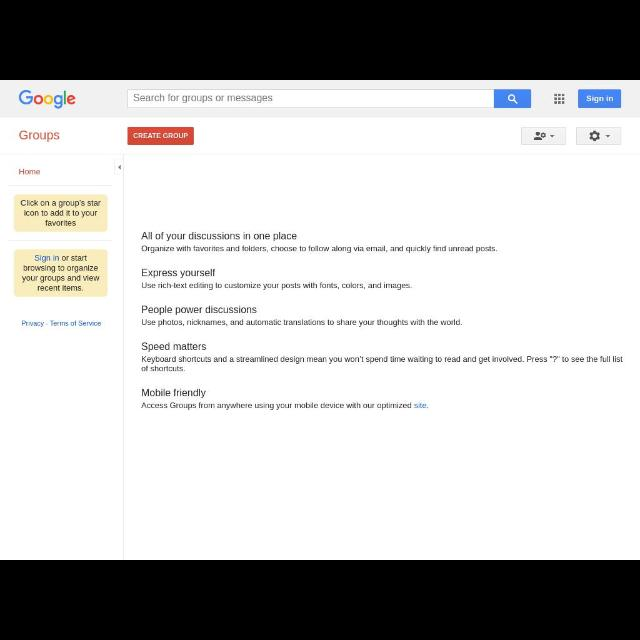button: (494, 90, 532, 108)
icon: (532, 132, 546, 142), (554, 94, 564, 105), (508, 94, 518, 104), (589, 131, 599, 141), (118, 163, 122, 170), (606, 134, 612, 138), (550, 134, 554, 138)
image: (18, 88, 76, 110)
input: (128, 90, 494, 106)
spinner: (521, 128, 565, 146), (576, 128, 620, 142)
text: (142, 355, 624, 373), (142, 244, 498, 254), (142, 318, 462, 328), (24, 255, 100, 292), (142, 282, 412, 292), (140, 402, 428, 410), (21, 200, 101, 228), (134, 92, 272, 104), (141, 232, 297, 242), (140, 304, 260, 316), (141, 388, 207, 398), (22, 320, 102, 328), (142, 342, 205, 352), (140, 270, 218, 278), (20, 130, 58, 142), (586, 93, 614, 105), (134, 133, 186, 139), (20, 168, 40, 176)
textbutton: (128, 127, 194, 145), (579, 90, 621, 108)
